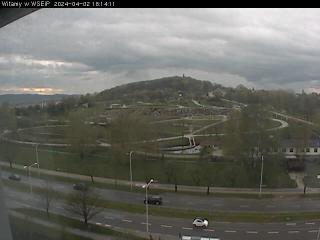car: (191, 216, 209, 228), (144, 195, 162, 206), (73, 182, 87, 191), (8, 173, 21, 180)
